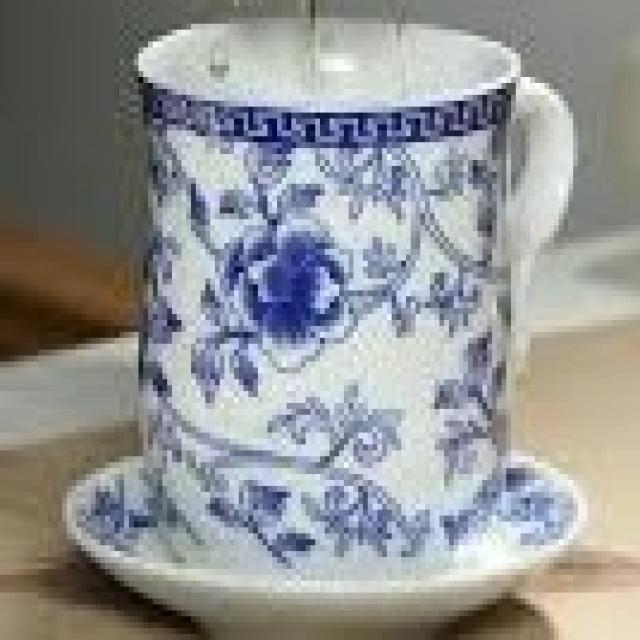taza: (99, 11, 606, 566)
